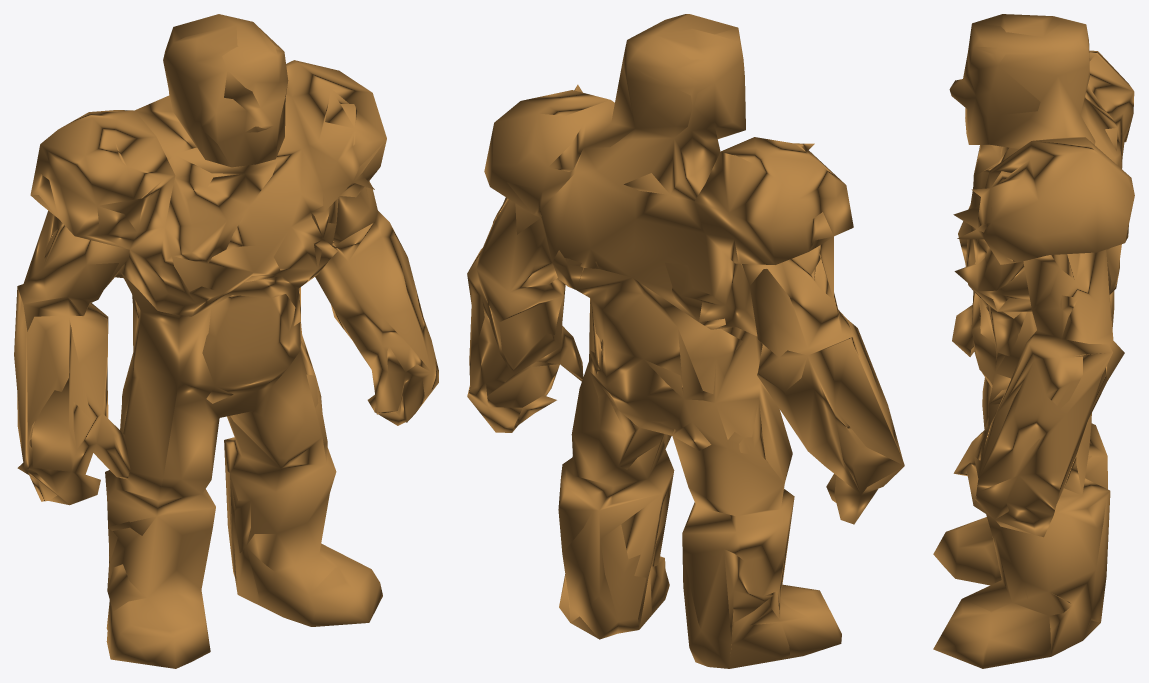
File: gen3d-sand-golem-lod0.glb
The picture shows the model from 3 angles, left to right: view 1: azimuth 30°, elevation 25°; view 2: azimuth 150°, elevation 25°; view 3: azimuth 270°, elevation 25°; orthographic projection. The views are drawn at different scales.
Visible parts, largest first — view 1: part_0; view 2: part_0; view 3: part_0.
Boxes of the visible parts, <box> form: part_0: <box>14,14,438,668</box>; part_0: <box>467,14,904,668</box>; part_0: <box>933,14,1134,668</box>.
Size of the model in its own units: 0.7446 by 1 by 0.3172.
